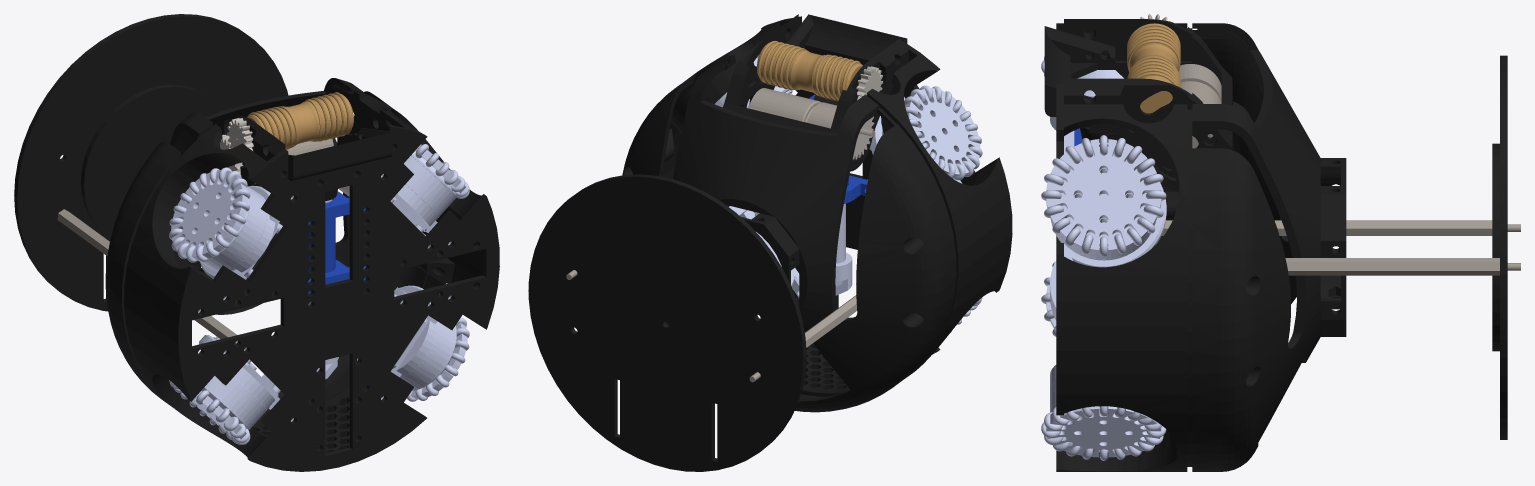
File: black.dae
3 renders of one model, left to right at view 1: azimuth 30°, elevation 25°; view 2: azimuth 150°, elevation 25°; view 3: azimuth 270°, elevation 25°, orthographic. The views are drawn at different scales.
Parts seen in each view (by area): view 1: node_57fd7879_9f8c_454f_a8e9_64f0723ec4c0_mesh0, node_610369ae_234a_415e_85cc_7f0b6613fe7b_mesh0, node_7fec06b7_c02e_42d3_a990_7f778ec66fb8_mesh0, node_1a8ff0fd_cdf5_485c_91a5_8c2e4d7b6b31_mesh0, node_4f6f3b91_03d8_4b1f_805e_7ce27d28939d_mesh0, node_8cde006f_100c_4f19_ab4a_c724f0c4f891_mesh0, node_f7abd65a_104d_4771_a8dc_d0ee6f3c5432_mesh0, node_8cc69f56_060e_4fe6_9275_0623aa507f01_mesh0, node_4db7a467_6075_490a_a687_b243d9364407_mesh0, node_53baad63_27fe_497f_907c_d4c6a432fc7f_mesh0, node_5ab066f9_39a1_4917_86c4_a70e986ca513_mesh0, node_da49f575_0129_4b91_b614_3b836d39ec66_mesh0 (+5 smaller); view 2: node_610369ae_234a_415e_85cc_7f0b6613fe7b_mesh0, node_7fec06b7_c02e_42d3_a990_7f778ec66fb8_mesh0, node_57fd7879_9f8c_454f_a8e9_64f0723ec4c0_mesh0, node_5ab066f9_39a1_4917_86c4_a70e986ca513_mesh0, node_1a8ff0fd_cdf5_485c_91a5_8c2e4d7b6b31_mesh0, node_4f6f3b91_03d8_4b1f_805e_7ce27d28939d_mesh0, node_4db7a467_6075_490a_a687_b243d9364407_mesh0, node_7269ed06_81c9_4a0b_ac71_9fd62a78edce_mesh0, node_f7c76ca6_84b0_4c42_86d1_7ddf235dbee5_mesh0, node_55eccb07_99fb_4ceb_a6b7_927e67ff8336_mesh0, node_9ee619fd_a3e5_4c50_8cf1_ca6a334ab285_mesh0, node_8cde006f_100c_4f19_ab4a_c724f0c4f891_mesh0; view 3: node_7fec06b7_c02e_42d3_a990_7f778ec66fb8_mesh0, node_57fd7879_9f8c_454f_a8e9_64f0723ec4c0_mesh0, node_75f6dc5d_aff7_4556_af58_c8bf577dd2b4_mesh0, node_5ab066f9_39a1_4917_86c4_a70e986ca513_mesh0, node_15e4e9e5_717b_4ddb_89b4_61d28246714b_mesh0, node_610369ae_234a_415e_85cc_7f0b6613fe7b_mesh0, node_7bec190a_035d_4b6b_adb1_98c7ceffdceb_mesh0, node_4f6f3b91_03d8_4b1f_805e_7ce27d28939d_mesh0, node_4db7a467_6075_490a_a687_b243d9364407_mesh0, node_53baad63_27fe_497f_907c_d4c6a432fc7f_mesh0, node_f7c76ca6_84b0_4c42_86d1_7ddf235dbee5_mesh0, node_7269ed06_81c9_4a0b_ac71_9fd62a78edce_mesh0.
Boxes of the visible parts, box(x1,y1,x2,y2) form: node_57fd7879_9f8c_454f_a8e9_64f0723ec4c0_mesh0: box(124, 90, 499, 471); node_610369ae_234a_415e_85cc_7f0b6613fe7b_mesh0: box(14, 14, 288, 311); node_7fec06b7_c02e_42d3_a990_7f778ec66fb8_mesh0: box(105, 78, 427, 422); node_1a8ff0fd_cdf5_485c_91a5_8c2e4d7b6b31_mesh0: box(169, 167, 250, 262); node_4f6f3b91_03d8_4b1f_805e_7ce27d28939d_mesh0: box(247, 92, 353, 149); node_8cde006f_100c_4f19_ab4a_c724f0c4f891_mesh0: box(357, 283, 456, 399); node_f7abd65a_104d_4771_a8dc_d0ee6f3c5432_mesh0: box(198, 185, 293, 300); node_8cc69f56_060e_4fe6_9275_0623aa507f01_mesh0: box(198, 335, 293, 430); node_4db7a467_6075_490a_a687_b243d9364407_mesh0: box(288, 127, 392, 180); node_53baad63_27fe_497f_907c_d4c6a432fc7f_mesh0: box(381, 151, 456, 245); node_5ab066f9_39a1_4917_86c4_a70e986ca513_mesh0: box(219, 90, 394, 186); node_da49f575_0129_4b91_b614_3b836d39ec66_mesh0: box(308, 191, 366, 293); node_610369ae_234a_415e_85cc_7f0b6613fe7b_mesh0: box(528, 174, 806, 471); node_7fec06b7_c02e_42d3_a990_7f778ec66fb8_mesh0: box(622, 60, 956, 412); node_57fd7879_9f8c_454f_a8e9_64f0723ec4c0_mesh0: box(662, 16, 1012, 396); node_5ab066f9_39a1_4917_86c4_a70e986ca513_mesh0: box(723, 14, 908, 171); node_1a8ff0fd_cdf5_485c_91a5_8c2e4d7b6b31_mesh0: box(904, 85, 982, 180); node_4f6f3b91_03d8_4b1f_805e_7ce27d28939d_mesh0: box(757, 41, 862, 101); node_4db7a467_6075_490a_a687_b243d9364407_mesh0: box(786, 14, 907, 64); node_7269ed06_81c9_4a0b_ac71_9fd62a78edce_mesh0: box(748, 88, 874, 136); node_f7c76ca6_84b0_4c42_86d1_7ddf235dbee5_mesh0: box(749, 295, 856, 382); node_55eccb07_99fb_4ceb_a6b7_927e67ff8336_mesh0: box(835, 252, 852, 295); node_9ee619fd_a3e5_4c50_8cf1_ca6a334ab285_mesh0: box(856, 66, 883, 100); node_8cde006f_100c_4f19_ab4a_c724f0c4f891_mesh0: box(729, 206, 799, 297); node_7fec06b7_c02e_42d3_a990_7f778ec66fb8_mesh0: box(1192, 23, 1346, 471); node_57fd7879_9f8c_454f_a8e9_64f0723ec4c0_mesh0: box(1056, 23, 1192, 471); node_75f6dc5d_aff7_4556_af58_c8bf577dd2b4_mesh0: box(1041, 135, 1166, 256); node_5ab066f9_39a1_4917_86c4_a70e986ca513_mesh0: box(1064, 19, 1232, 191); node_15e4e9e5_717b_4ddb_89b4_61d28246714b_mesh0: box(1041, 406, 1166, 460); node_610369ae_234a_415e_85cc_7f0b6613fe7b_mesh0: box(1492, 55, 1507, 439); node_7bec190a_035d_4b6b_adb1_98c7ceffdceb_mesh0: box(1285, 258, 1520, 275); node_4f6f3b91_03d8_4b1f_805e_7ce27d28939d_mesh0: box(1127, 23, 1180, 113); node_4db7a467_6075_490a_a687_b243d9364407_mesh0: box(1044, 26, 1115, 116); node_53baad63_27fe_497f_907c_d4c6a432fc7f_mesh0: box(1050, 131, 1166, 267); node_f7c76ca6_84b0_4c42_86d1_7ddf235dbee5_mesh0: box(1161, 220, 1520, 235); node_7269ed06_81c9_4a0b_ac71_9fd62a78edce_mesh0: box(1178, 64, 1221, 148).
Bounding box in the file's own units: 0.175 × 0.1735 × 0.187.
